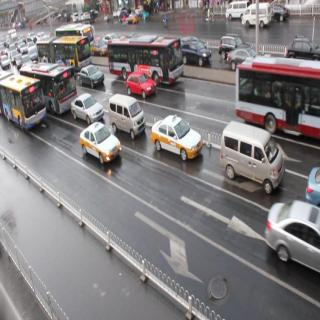BigCar: (231, 49, 320, 114), (102, 35, 194, 82), (18, 60, 77, 117), (1, 70, 46, 132)
Car: (219, 121, 281, 194), (151, 110, 199, 174), (74, 124, 123, 168), (111, 67, 158, 101), (71, 87, 108, 129), (110, 94, 144, 134)
